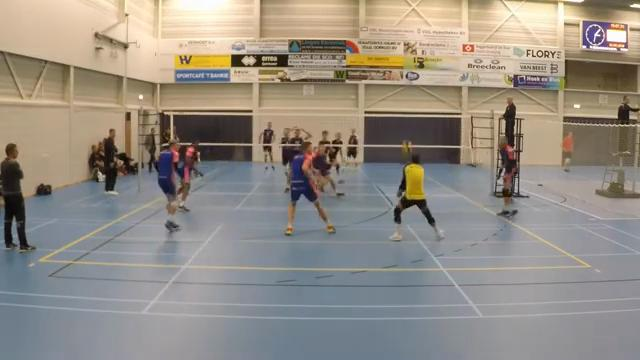ricezione: (385, 145, 449, 244)
